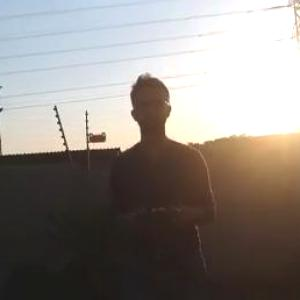follow: (106, 68, 224, 299)
